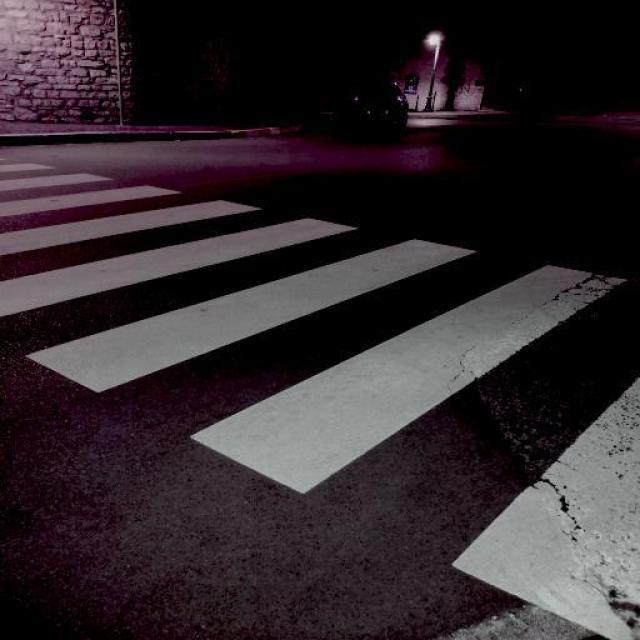crosswalk: (0, 157, 638, 640)
